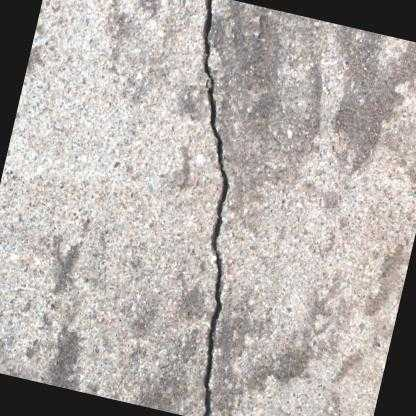crack: (203, 0, 229, 416)
